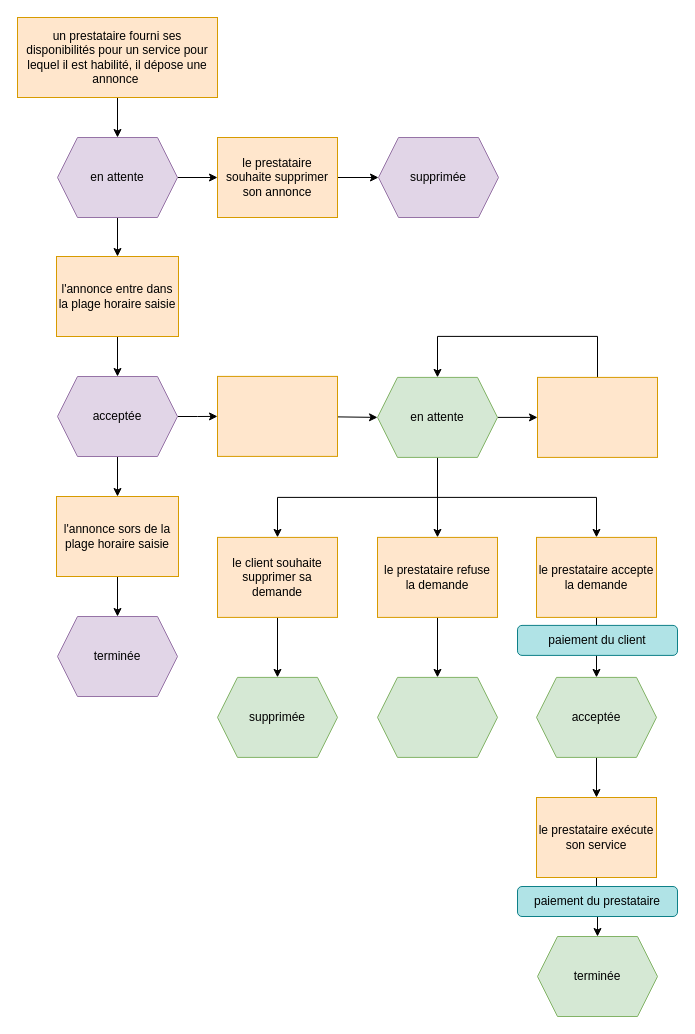
Image size: 695x1034. Some labels were removed from this diagram. The centre of each missing label's shape, as x and y in pixels:
la demande ne convent pas au prestataire il lui retourne la demande modifier: point 597,416
refusée: point 437,716
un client souhaite s'inscrire à une prestation il fais une demande à une annonce: point 277,415
